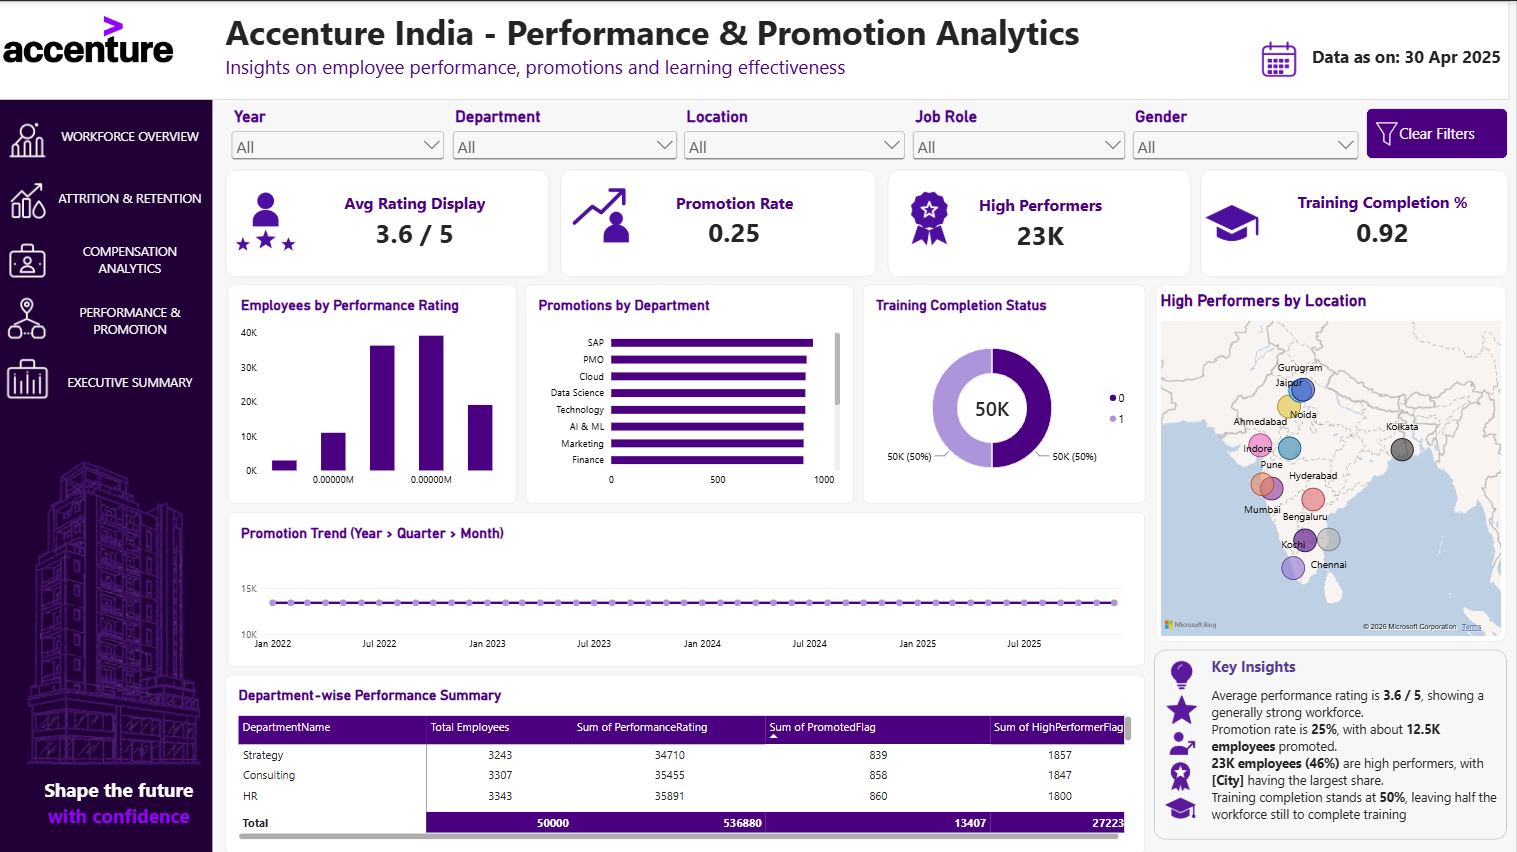

The dashboard page shown, as its layout file describes it:
{"tool":"powerbi","page":{"name":"PERFORMANCE & PROMOTION","canvas":[1920,1080],"ordinal":3},"visuals":[{"type":"shape","box":[0,26,270,1054],"z":0},{"type":"group","id":"g1","title":"Group 3","box":[0,498,290,568.7],"z":1000},{"type":"group","id":"g2","title":"Group 1","box":[0,126.7,270,395.3],"z":2000},{"type":"image","box":[0,498,290,540],"z":2000,"group":"g1"},{"type":"shape","box":[0,0,1911.2,125],"z":3000},{"type":"image","box":[0,0,225.7,104.3],"z":4000},{"type":"textbox","box":[286,10,1613.3,106.7],"z":5000},{"type":"slicer","fields":{"Values":["DimDate.Year"]},"box":[290,135,278.8,78.8],"z":6000},{"type":"slicer","fields":{"Values":["DimJobLevel.JobLevel"]},"box":[1151.2,135,278.8,78.8],"z":7000},{"type":"textbox","box":[33.3,981.7,236.7,85],"z":7000,"group":"g1"},{"type":"textbox","box":[1642.4,55.9,278.3,38.3],"z":8000},{"type":"image","box":[0,126.7,71.7,100],"z":8000,"group":"g2"},{"type":"slicer","fields":{"Values":["DimLocation.City"]},"box":[862.5,135,288.8,91.2],"z":9000},{"type":"image","box":[1.7,213.4,71.7,76.7],"z":9000,"group":"g2"},{"type":"slicer","fields":{"Values":["DimEmployee.Gender"]},"box":[1430,135,295,78.8],"z":10000},{"type":"image","box":[0,290,71.7,75],"z":10000,"group":"g2"},{"type":"slicer","fields":{"Values":["DimDepartment.DepartmentName"]},"box":[568.8,135,293.8,78.8],"z":11000},{"type":"image","box":[0,365,70,73.3],"z":11000,"group":"g2"},{"type":"shape","box":[710.7,214,400,136],"z":12000},{"type":"image","box":[0,435,71.7,85],"z":12000,"group":"g2"},{"type":"shape","box":[286.4,213.6,410,136],"z":13000},{"type":"pageNavigator","box":[62,136,208,386],"z":14000,"group":"g2"},{"type":"shape","box":[1520,214,390,136],"z":14000},{"type":"shape","box":[1124,214,384,136],"z":15000},{"type":"image","box":[290,227.1,95.7,111.4],"z":16000},{"type":"image","box":[715.7,212.9,94.3,111.4],"z":17000},{"type":"image","box":[1137.1,227.1,80,93.3],"z":18000},{"type":"image","box":[1520,235.7,80,93.3],"z":19000},{"type":"shape","box":[1461.7,821.7,446.7,240],"z":20000},{"type":"image","box":[1576.2,43.8,85,60],"z":21000},{"type":"clusteredColumnChart","title":"Employees by Performance Rating","fields":{"Category":["FactPerformance.PerformanceRating"],"Y":["DimDate.Employees by Rating"]},"box":[289.5,359.1,365.4,276.8],"z":22000},{"type":"clusteredBarChart","title":"Promotions by Department","fields":{"Category":["DimDepartment.DepartmentName"],"Y":["Sum(FactPerformance.PromotedFlag)"]},"box":[665.9,359.1,416,276.8],"z":23000},{"type":"donutChart","title":"Training Completion Status","fields":{"Category":["FactTraining.CompletedFlag"],"Y":["CountNonNull(DimEmployee.EmployeeID)"]},"box":[1093,359.1,357.5,276.8],"z":24000},{"type":"lineChart","title":"Promotion Trend (Year > Quarter > Month)","fields":{"Category":["DimDate.Date.Variation.Date Hierarchy.Year","DimDate.Date.Variation.Date Hierarchy.Quarter","DimDate.Date.Variation.Date Hierarchy.Month"],"Y":["Sum(FactPerformance.PromotedFlag)"]},"box":[289.5,646.9,1161,196.1],"z":25000},{"type":"map","title":"High Performers by Location","fields":{"Category":["DimLocation.City"],"Size":["Sum(FactPerformance.HighPerformerFlag)"]},"box":[1463.3,358.3,445,451.7],"z":26000},{"type":"pivotTable","title":"Department-wise Performance Summary","fields":{"Rows":["DimDepartment.DepartmentName"],"Values":["DimDate.Total Employees","Sum(FactPerformance.PerformanceRating)","Sum(FactPerformance.PromotedFlag)","Sum(FactPerformance.HighPerformerFlag)"]},"box":[286,853,1164,226],"z":27000},{"type":"cardVisual","fields":{"Data":["DimDate.Promotion Rate"]},"box":[825.4,227.1,210.2,101.7],"z":28000},{"type":"cardVisual","fields":{"Data":["DimDate.Avg Rating Display"]},"box":[410.2,233.9,233.9,89.8],"z":29000},{"type":"cardVisual","fields":{"Data":["DimDate.High Performers"]},"box":[1205.1,233.9,225.4,94.9],"z":30000},{"type":"cardVisual","fields":{"Data":["DimDate.Training Completion %"]},"box":[1600,227.1,300,100],"z":31000},{"type":"actionButton","box":[1730.8,135.8,178.3,63.3],"z":32000},{"type":"image","box":[1736,152.7,41.1,29.5],"z":33000},{"type":"textbox","box":[1535,866.7,365,200],"z":34000},{"type":"image","box":[1471.7,876.7,51.7,41.7],"z":35000},{"type":"image","box":[1473.3,918.3,51.7,41.7],"z":36000},{"type":"image","box":[1470,960,51.7,41.7],"z":37000},{"type":"image","box":[1470,1001.7,51.7,43.3],"z":38000},{"type":"image","box":[1475,828.3,41.7,48.3],"z":39000},{"type":"textbox","box":[1535,828.3,238.3,38.3],"z":40000}]}

Visuals, with their boxes on the page's 1920x1080 design canvas (x1, y1, x2, y2). These are canvas units, not pixel positions in the 1517x852 screenshot, which may show the page scaled, cropped or inside an application window:
shape: (0, 26, 270, 1080)
"Group 3" group: (0, 498, 290, 1067)
"Group 1" group: (0, 127, 270, 522)
image: (0, 498, 290, 1038)
shape: (0, 0, 1911, 125)
image: (0, 0, 226, 104)
textbox: (286, 10, 1899, 117)
slicer - DimDate.Year: (290, 135, 569, 214)
slicer - DimJobLevel.JobLevel: (1151, 135, 1430, 214)
textbox: (33, 982, 270, 1067)
textbox: (1642, 56, 1921, 94)
image: (0, 127, 72, 227)
slicer - DimLocation.City: (862, 135, 1151, 226)
image: (2, 213, 73, 290)
slicer - DimEmployee.Gender: (1430, 135, 1725, 214)
image: (0, 290, 72, 365)
slicer - DimDepartment.DepartmentName: (569, 135, 863, 214)
image: (0, 365, 70, 438)
shape: (711, 214, 1111, 350)
image: (0, 435, 72, 520)
shape: (286, 214, 696, 350)
pageNavigator: (62, 136, 270, 522)
shape: (1520, 214, 1910, 350)
shape: (1124, 214, 1508, 350)
image: (290, 227, 386, 338)
image: (716, 213, 810, 324)
image: (1137, 227, 1217, 320)
image: (1520, 236, 1600, 329)
shape: (1462, 822, 1908, 1062)
image: (1576, 44, 1661, 104)
"Employees by Performance Rating" clusteredColumnChart: (290, 359, 655, 636)
"Promotions by Department" clusteredBarChart: (666, 359, 1082, 636)
"Training Completion Status" donutChart: (1093, 359, 1450, 636)
"Promotion Trend (Year > Quarter > Month)" lineChart: (290, 647, 1450, 843)
"High Performers by Location" map: (1463, 358, 1908, 810)
"Department-wise Performance Summary" pivotTable: (286, 853, 1450, 1079)
cardVisual - DimDate.Promotion Rate: (825, 227, 1036, 329)
cardVisual - DimDate.Avg Rating Display: (410, 234, 644, 324)
cardVisual - DimDate.High Performers: (1205, 234, 1430, 329)
cardVisual - DimDate.Training Completion %: (1600, 227, 1900, 327)
actionButton: (1731, 136, 1909, 199)
image: (1736, 153, 1777, 182)
textbox: (1535, 867, 1900, 1067)
image: (1472, 877, 1523, 918)
image: (1473, 918, 1525, 960)
image: (1470, 960, 1522, 1002)
image: (1470, 1002, 1522, 1045)
image: (1475, 828, 1517, 877)
textbox: (1535, 828, 1773, 867)
